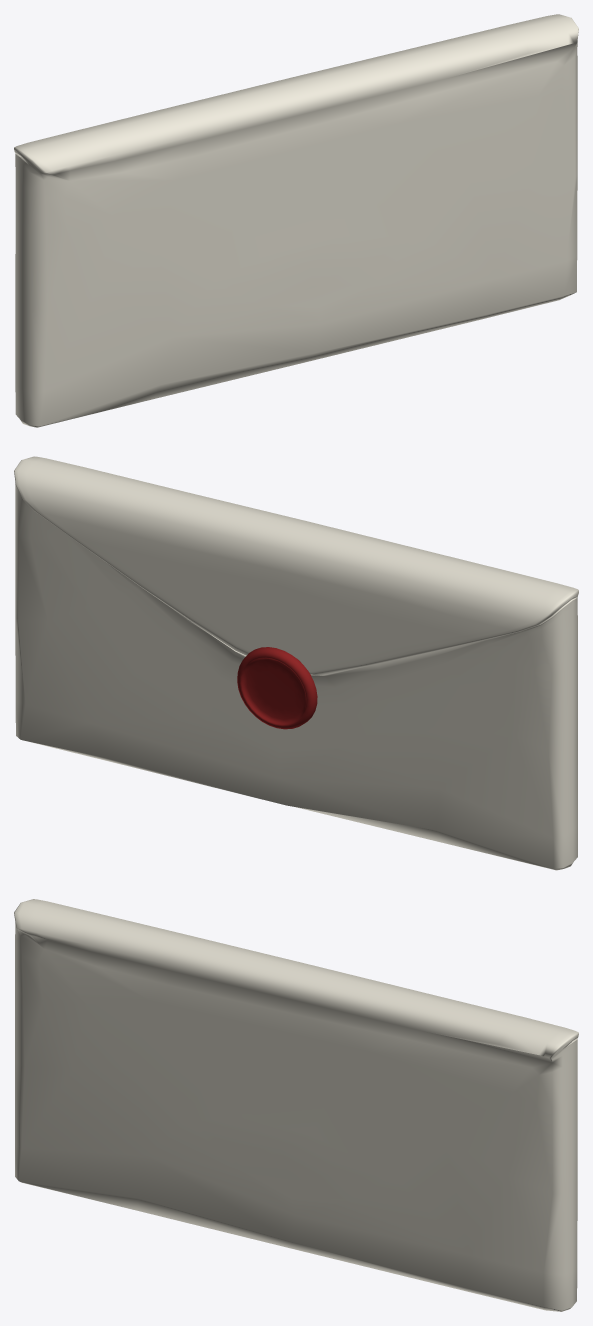
The model's file is Letter.fbx.
3 renders of one model, top to bottom at view 1: azimuth 30°, elevation 25°; view 2: azimuth 150°, elevation 25°; view 3: azimuth 330°, elevation 25°, orthographic.
Parts seen in each view (by area): view 1: Letter_Asset; view 2: Letter_Asset; view 3: Letter_Asset.
Part boxes in pixels (x1=…): Letter_Asset: x1=14, y1=14, x2=578, y2=427; Letter_Asset: x1=14, y1=456, x2=578, y2=870; Letter_Asset: x1=14, y1=899, x2=578, y2=1311.
Bounding box in the file's own units: 46.58 × 5.86 × 22.25.
